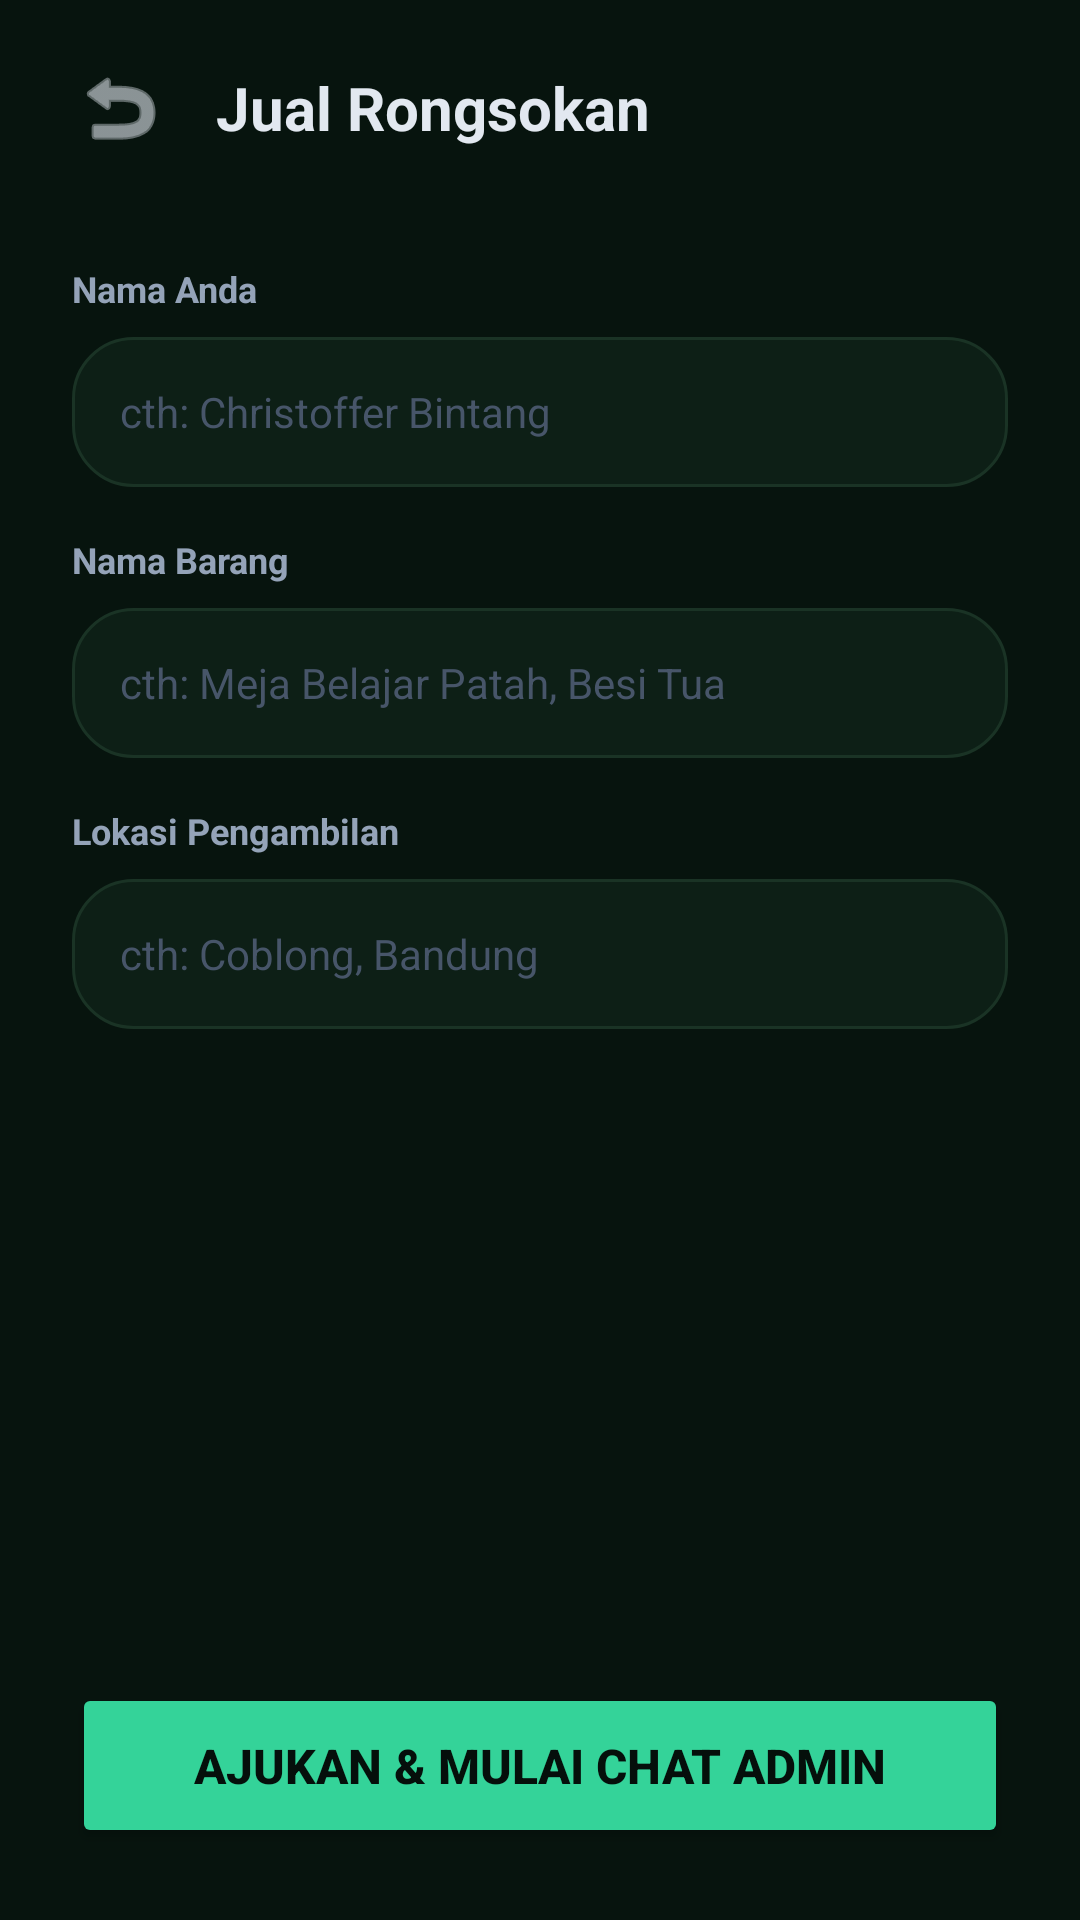

Screen size 1080x1920. Icon name, then its box in pixels as (x1=x1, y1=y1, x2=x2, y2=y2):
revert: (x1=87, y1=77, x2=156, y2=140)
